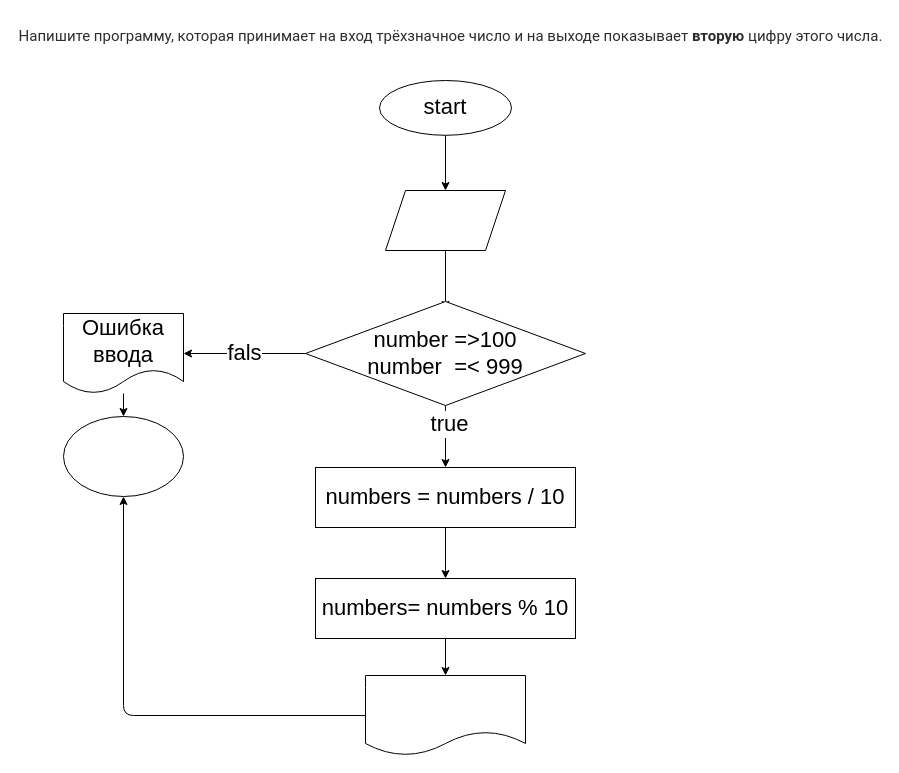
The diagram is 899 pixels wide and 773 high, and some of its shapes have lost their labels. Each missing label, with the box of its shape:
end: (62, 416, 184, 496)
number: (384, 190, 506, 250)
numbers: (364, 674, 526, 756)
